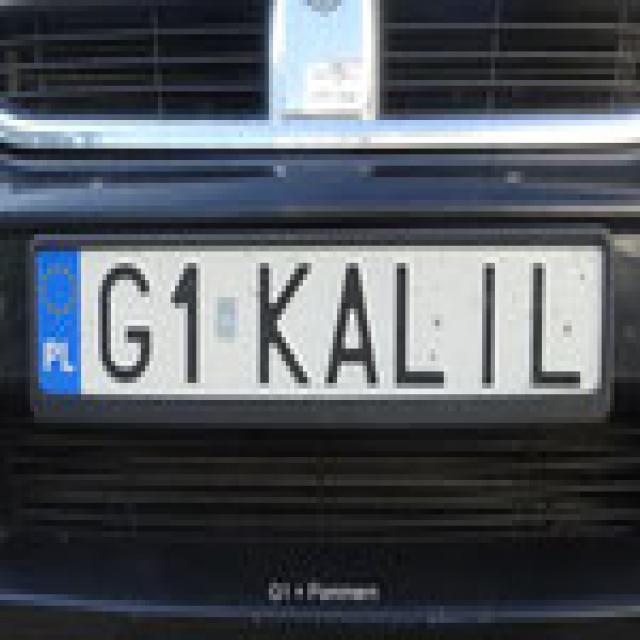pl_license_plate: (30, 234, 601, 394)
